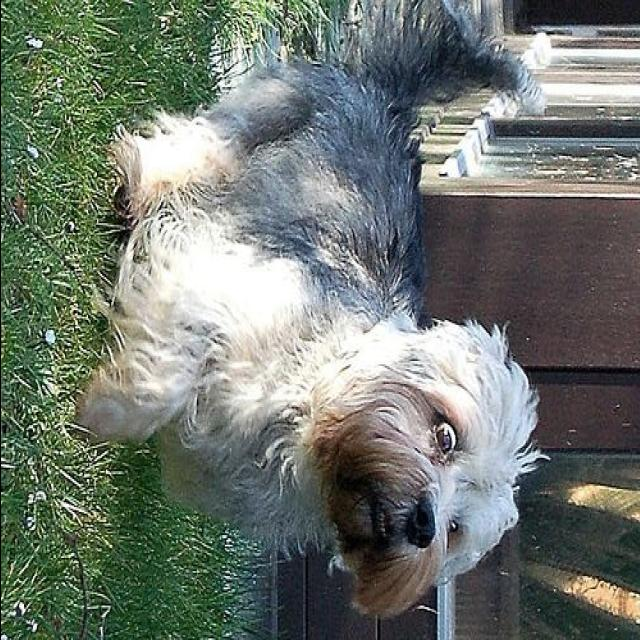dandie_dinmont: (74, 64, 550, 616)
